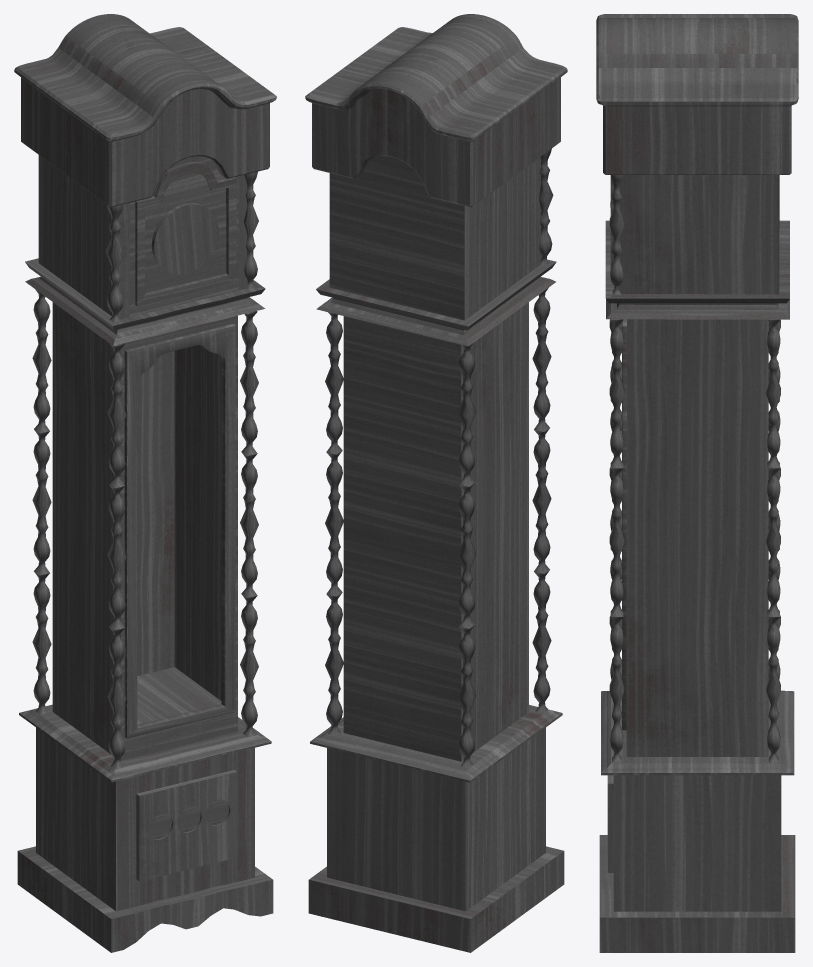
The model's file is SM_GrandfatherClock.fbx.
3 renders of one model, left to right at view 1: azimuth 30°, elevation 25°; view 2: azimuth 150°, elevation 25°; view 3: azimuth 270°, elevation 25°, orthographic. The views are drawn at different scales.
Parts seen in each view (by area): view 1: SM_GrandFatherClock, SM_GrandFatherClock.001, NurbsPath.002, NurbsPath.007, NurbsPath.009, NurbsPath.010, NurbsPath.001; view 2: SM_GrandFatherClock, NurbsPath.008, NurbsPath.009, NurbsPath.007, NurbsPath.010; view 3: SM_GrandFatherClock, NurbsPath.008, NurbsPath.002, NurbsPath.001, NurbsPath.009, SM_GrandFatherClock.001, NurbsPath.007.
Part boxes in pixels (x1=…): SM_GrandFatherClock: x1=14, y1=14, x2=276, y2=952; SM_GrandFatherClock.001: x1=136, y1=770, x2=237, y2=881; NurbsPath.002: x1=240, y1=311, x2=258, y2=736; NurbsPath.007: x1=107, y1=343, x2=126, y2=769; NurbsPath.009: x1=32, y1=289, x2=51, y2=714; NurbsPath.010: x1=105, y1=204, x2=124, y2=322; NurbsPath.001: x1=243, y1=171, x2=258, y2=289; SM_GrandFatherClock: x1=305, y1=14, x2=567, y2=952; NurbsPath.008: x1=325, y1=312, x2=343, y2=735; NurbsPath.009: x1=457, y1=343, x2=476, y2=768; NurbsPath.007: x1=532, y1=287, x2=551, y2=712; NurbsPath.010: x1=539, y1=148, x2=553, y2=266; SM_GrandFatherClock: x1=596, y1=14, x2=798, y2=952; NurbsPath.008: x1=766, y1=319, x2=780, y2=762; NurbsPath.002: x1=609, y1=319, x2=624, y2=762; NurbsPath.001: x1=609, y1=175, x2=624, y2=294; NurbsPath.009: x1=768, y1=319, x2=780, y2=679; SM_GrandFatherClock.001: x1=607, y1=775, x2=613, y2=872; NurbsPath.007: x1=609, y1=319, x2=621, y2=679.
Bounding box in the file's own units: 46.07 × 221 × 45.63.
